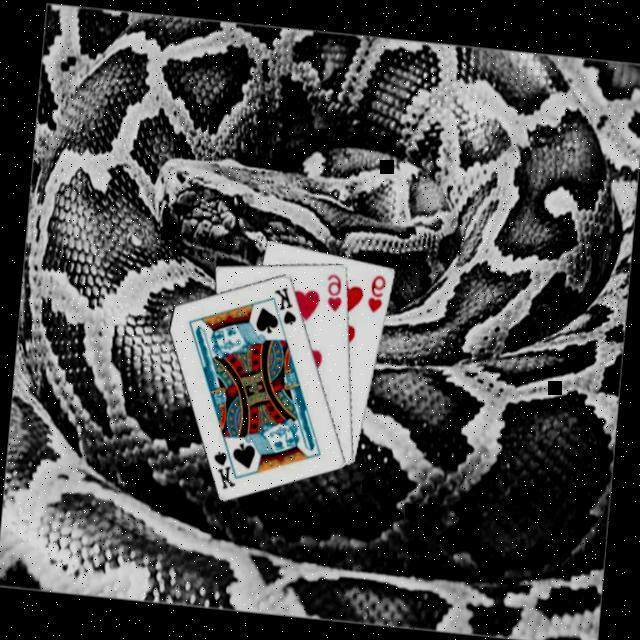6H: (322, 266, 348, 310)
9H: (364, 268, 390, 312)
KS: (208, 438, 244, 490), (268, 280, 302, 324)
